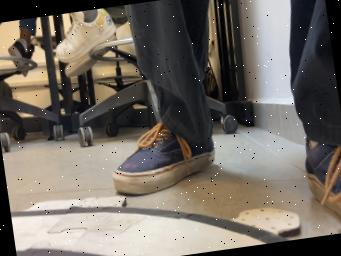street: (10, 206, 289, 256)
